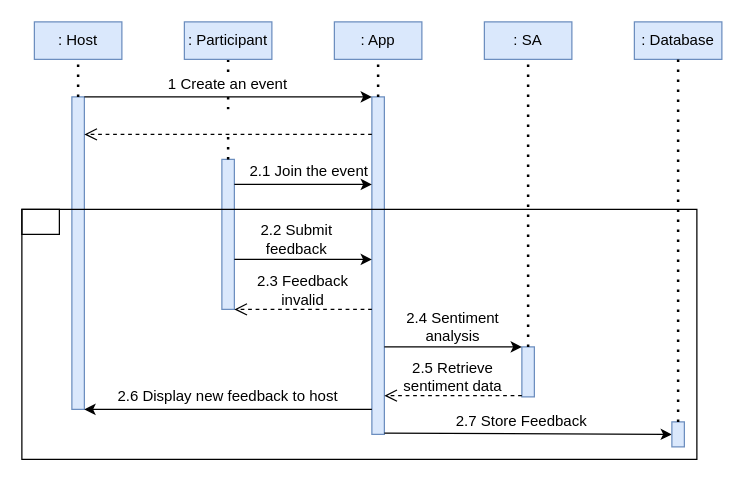
Some shapes in this 744 by 481 pixel diagram are drawn without their labels. Each missing label, with the centre of its shape:
1.1 Distribute event acess token: point (227, 121)
loop: point (40, 221)
